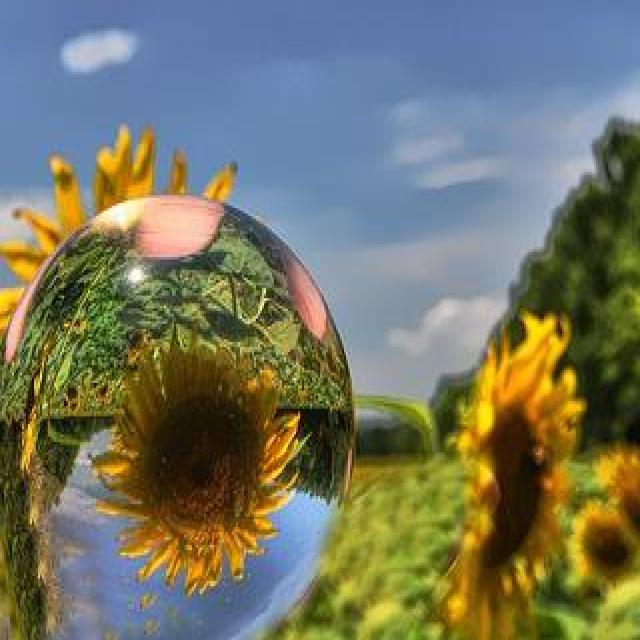sunflower: (91, 329, 299, 592), (0, 125, 245, 346), (455, 308, 582, 640), (570, 498, 640, 587), (594, 452, 640, 524)
